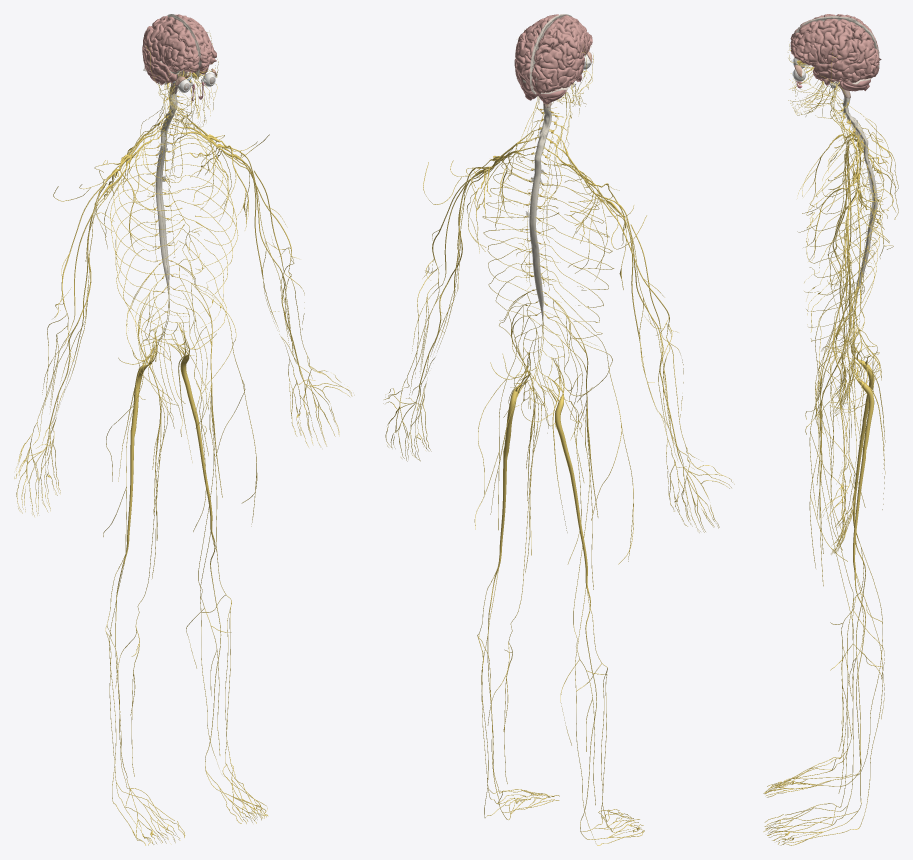
The model's file is male-nervous.glb.
3 views of the same model, side by side, from view 1: azimuth 30°, elevation 25°; view 2: azimuth 150°, elevation 25°; view 3: azimuth 270°, elevation 25° (orthographic). The views are drawn at different scales.
Visible parts, largest first — view 1: Intercostal_nerves_R, Intercostal_nerves_L, Spinal_dura, White_matter_of_spinal_cord, Sciatic_nerve_R, Sciatic_nerve_L; view 2: Spinal_dura, White_matter_of_spinal_cord, Intercostal_nerves_R, Intercostal_nerves_L, Sciatic_nerve_R, Sciatic_nerve_L; view 3: Spinal_dura, Intercostal_nerves_L, Sciatic_nerve_L, Intercostal_nerves_R, White_matter_of_spinal_cord, Sciatic_nerve_R, Saphenous_nerve_L, Middle_frontal_gyrus_L, Median_nerve_L, Saphenous_nerve_R, Lateral_femoral_cutaneous_nerve_L, Middle_temporal_gyrus_L (+16 smaller).
Boxes of the visible parts, x1,y1,x2,y2 form: Intercostal_nerves_R: (110,138,186,344); Intercostal_nerves_L: (167,133,238,342); Spinal_dura: (155,93,177,293); White_matter_of_spinal_cord: (156,94,177,293); Sciatic_nerve_R: (126,329,157,549); Sciatic_nerve_L: (170,323,212,529); Spinal_dura: (526,104,551,320); White_matter_of_spinal_cord: (529,106,551,318); Intercostal_nerves_R: (540,164,614,338); Intercostal_nerves_L: (482,156,562,335); Sciatic_nerve_R: (542,358,587,583); Sciatic_nerve_L: (499,353,529,561); Spinal_dura: (842,96,877,298); Intercostal_nerves_L: (804,150,882,341); Sciatic_nerve_L: (851,342,874,570); Intercostal_nerves_R: (804,137,882,332); White_matter_of_spinal_cord: (843,98,877,297); Sciatic_nerve_R: (851,330,874,527); Saphenous_nerve_L: (818,402,884,793); Middle_frontal_gyrus_L: (792,27,836,58); Median_nerve_L: (832,190,858,482); Saphenous_nerve_R: (818,376,884,751); Lateral_femoral_cutaneous_nerve_L: (809,317,865,568); Middle_temporal_gyrus_L: (817,59,867,79).
Bounding box in the file's own units: 0.7605 × 1.7 × 0.2615.
